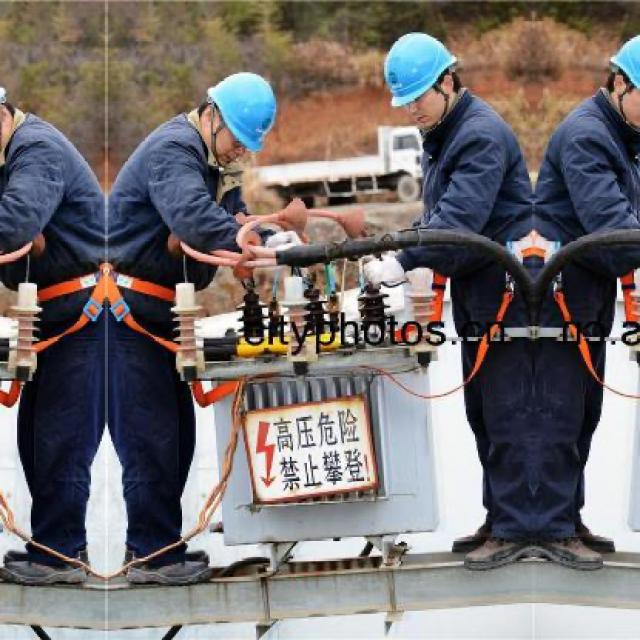helmet: (196, 62, 287, 166), (379, 29, 466, 131), (602, 29, 638, 132), (0, 61, 19, 168)
